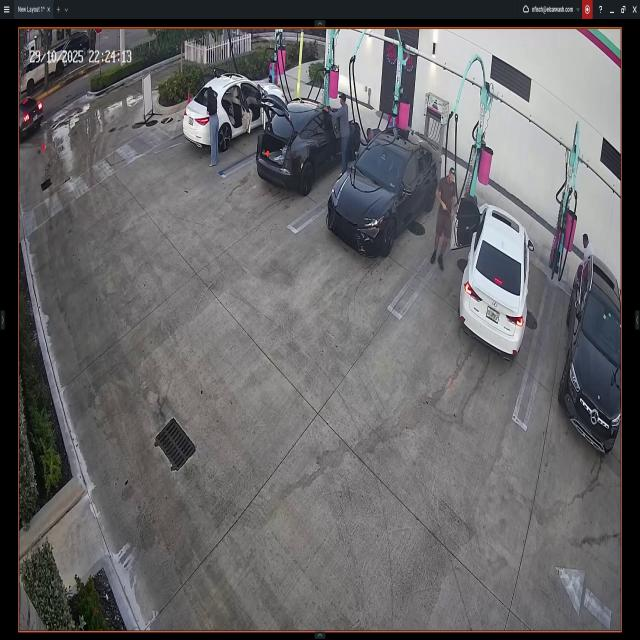Car: (328, 130, 435, 264), (458, 190, 528, 367), (562, 256, 619, 450), (258, 93, 359, 199), (182, 72, 286, 153), (18, 95, 42, 142)
